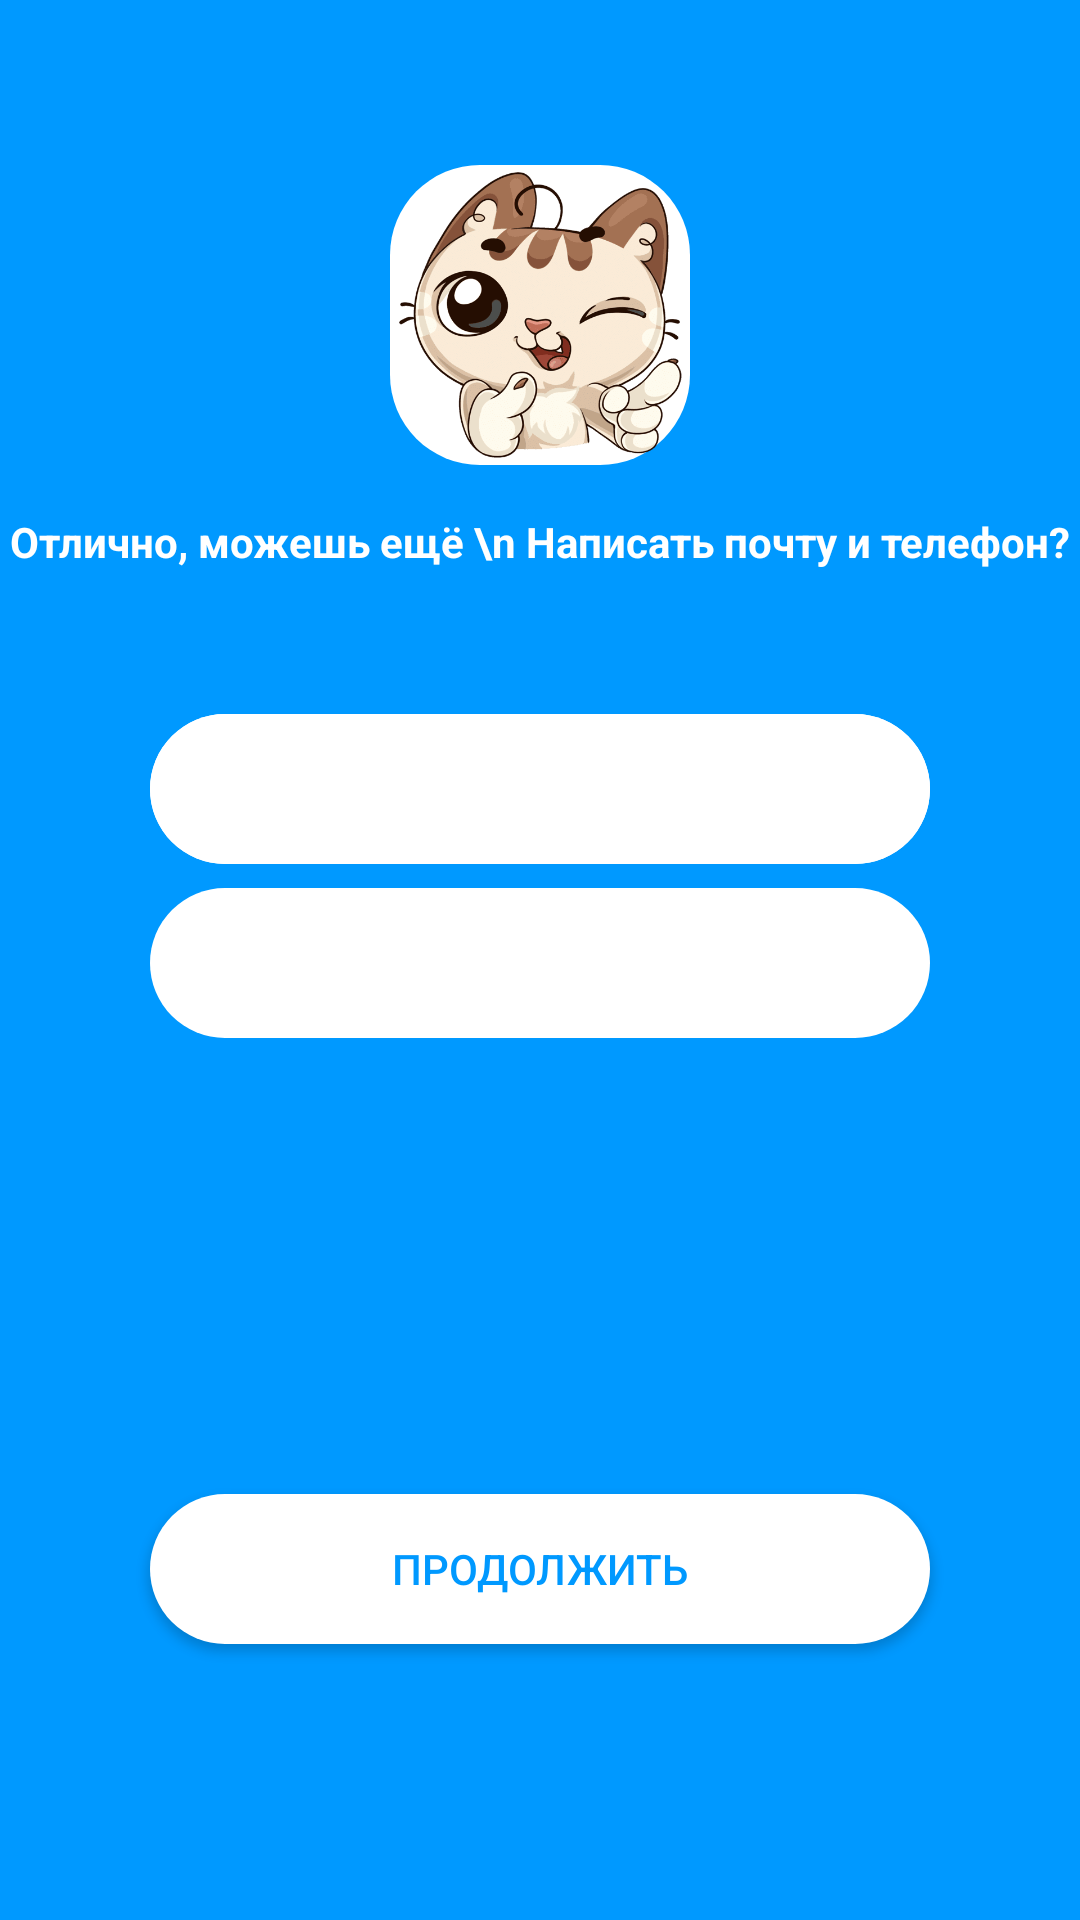

Icons on this 1080 x 1920 Android screen, each with the point to tap as point (x, y):
cat: point (540, 315)
